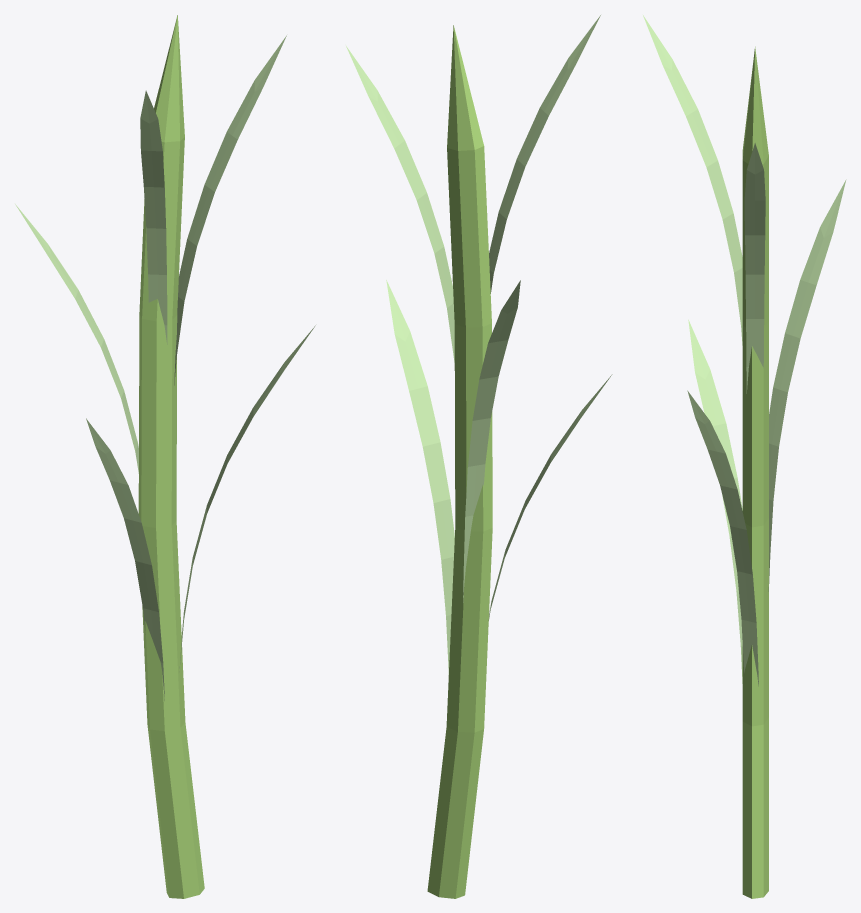
Rendered from Rice Tonkhla.glb.
3 renders of one model, left to right at view 1: azimuth 30°, elevation 25°; view 2: azimuth 150°, elevation 25°; view 3: azimuth 270°, elevation 25°, orthographic. The views are drawn at different scales.
Parts seen in each view (by area): view 1: Tonkhla; view 2: Tonkhla; view 3: Tonkhla.
Boxes of the visible parts, <box> form: Tonkhla: <box>15,15,315,898</box>; Tonkhla: <box>346,15,612,898</box>; Tonkhla: <box>643,15,846,898</box>.
Bounding box in the file's own units: 0.1152 × 0.4097 × 0.09.
